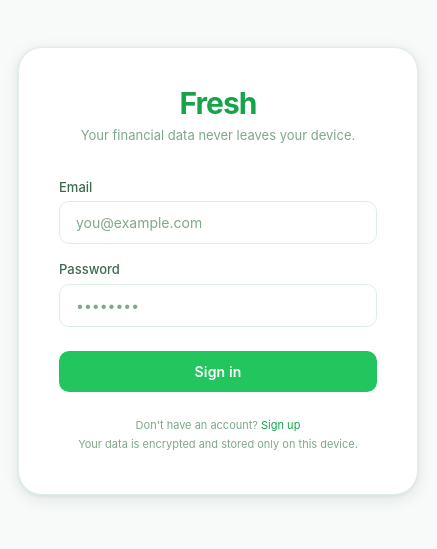
Login › error handling › shows error banner when login returns a plain 500 with no body error field
Type "user@example.com" into the field labelled "Email".
click(218, 222); type("user@example.com")  # box [59, 201, 377, 244]
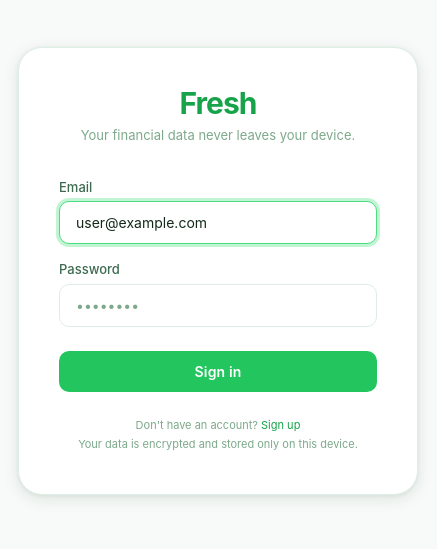
Type "secret123" into the password field labelled "Password".
click(218, 305); type("secret123")  # box [59, 284, 377, 326]
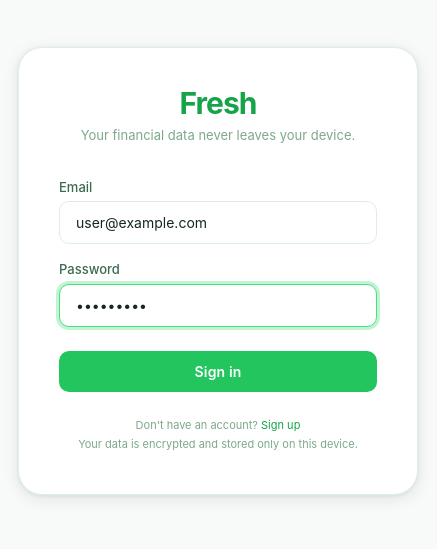
Click the button "Sign in".
click(218, 371)  # box [59, 350, 377, 392]
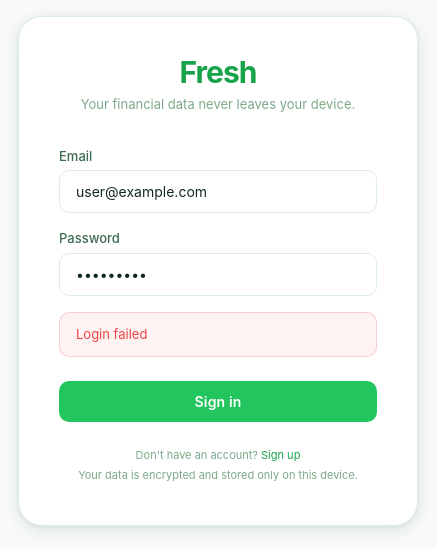
Now the text "Login failed" is shown, box [59, 312, 377, 357]
